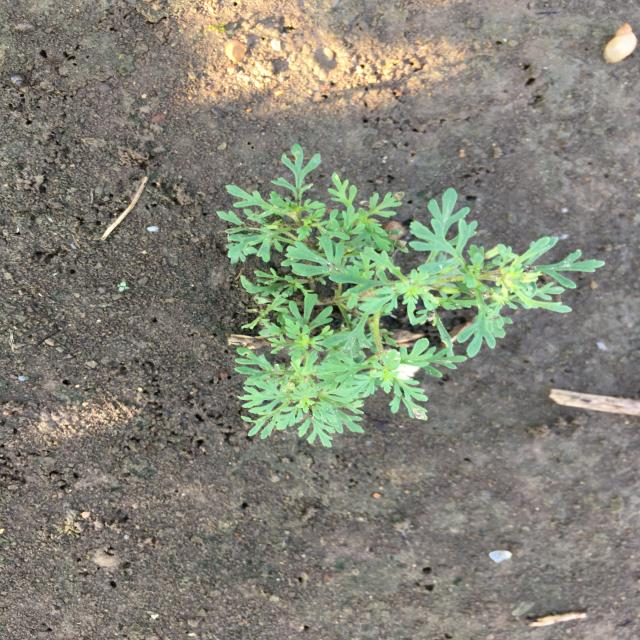Ragweed: (213, 141, 608, 449)
